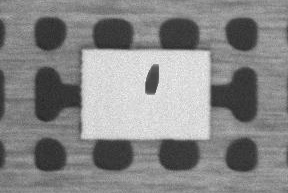DIE_INK: (142, 62, 160, 96)
